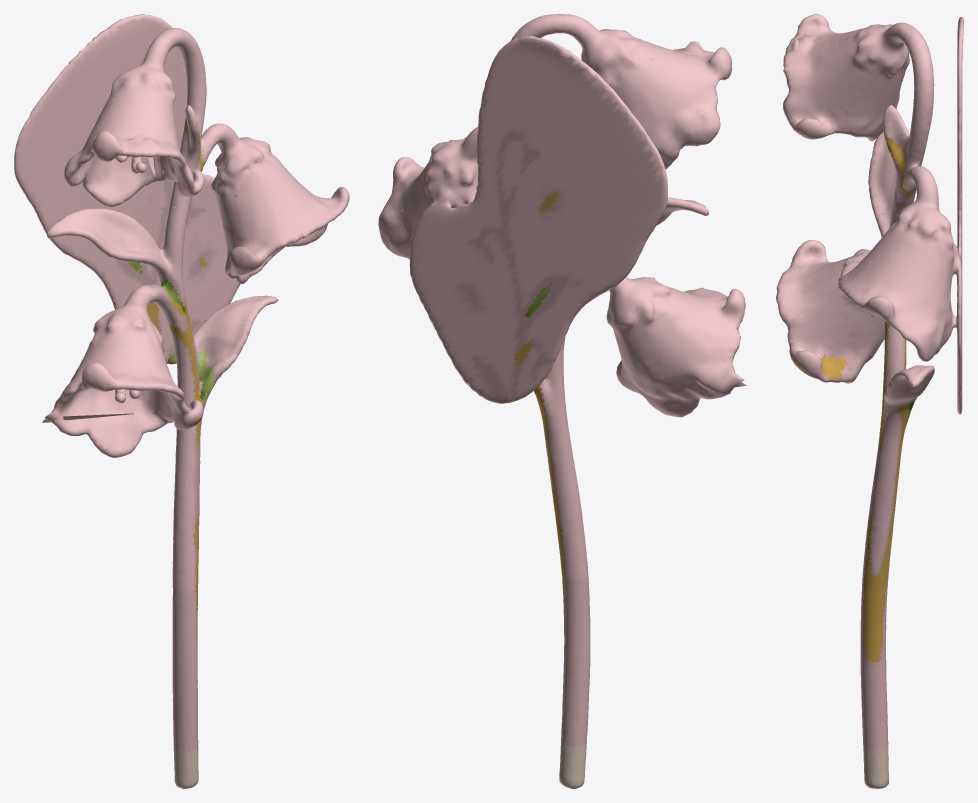
File: campanula-ai.glb
3 views of the same model, side by side, from view 1: azimuth 30°, elevation 25°; view 2: azimuth 150°, elevation 25°; view 3: azimuth 270°, elevation 25° (orthographic). The views are drawn at different scales.
Parts seen in each view (by area): view 1: petal, stem, stamen; view 2: petal, stem, stamen; view 3: petal, stamen, stem.
Part boxes in pixels (box(x1,y1,x2,y2)): petal: box(14, 14, 349, 753); stem: box(128, 261, 216, 788); stamen: box(147, 121, 206, 648); petal: box(378, 14, 746, 748); stem: box(501, 283, 586, 788); stamen: box(509, 191, 621, 648); petal: box(776, 14, 963, 751); stamen: box(793, 137, 913, 662); stem: box(863, 397, 917, 788).
Bounding box in the file's own units: 0.8831 × 1.96 × 0.4398.
